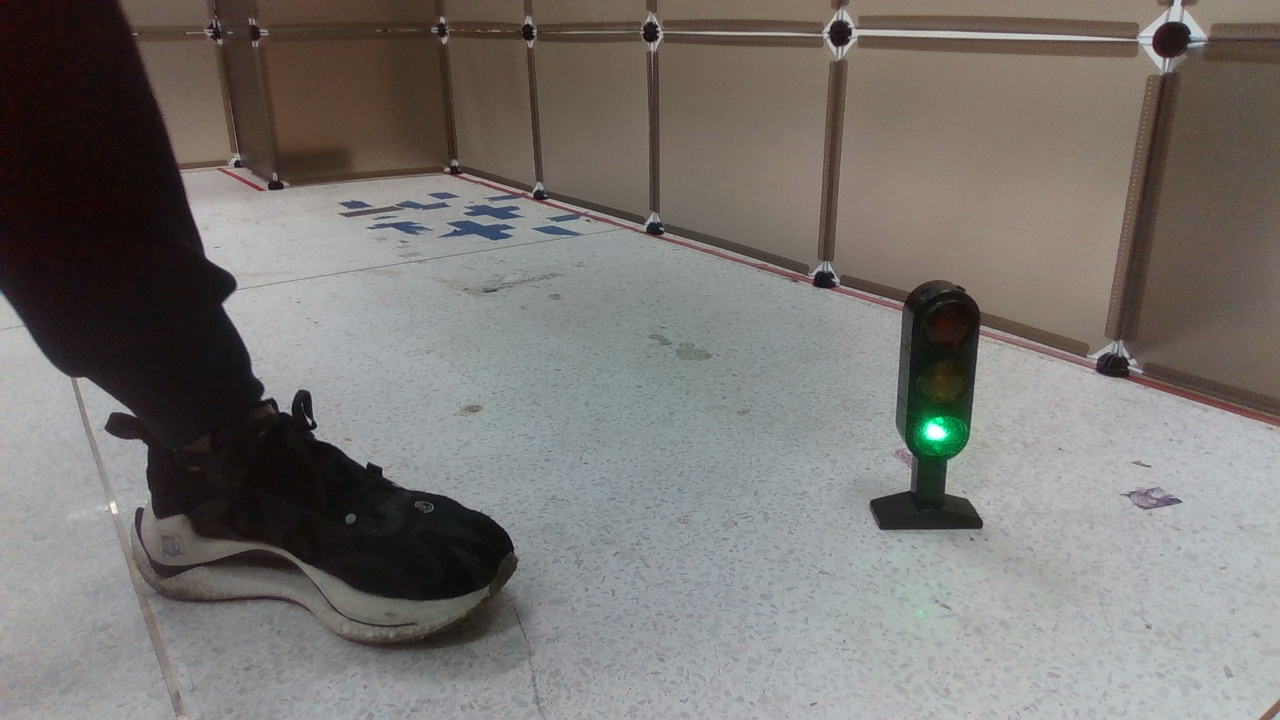Green traffic light: (869, 273, 988, 533)
